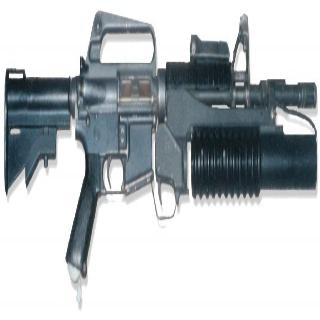gun: (2, 6, 318, 302)
